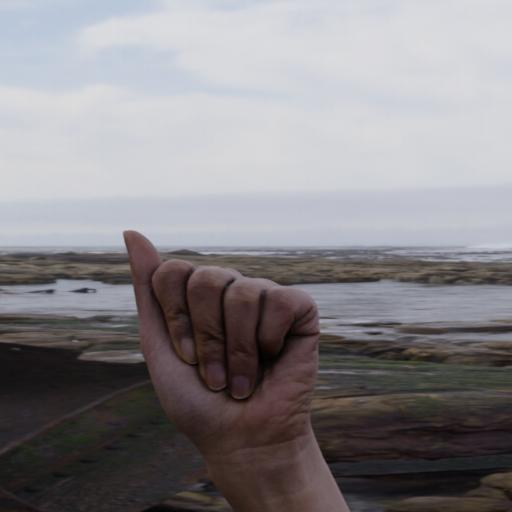A: (93, 208, 332, 498)
